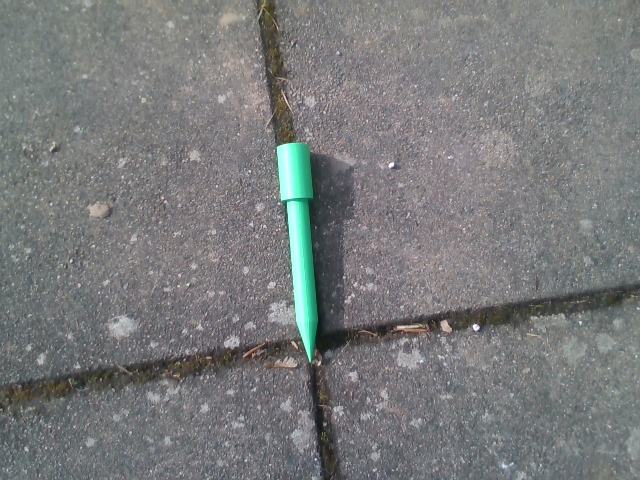Probe: (272, 139, 327, 367)
